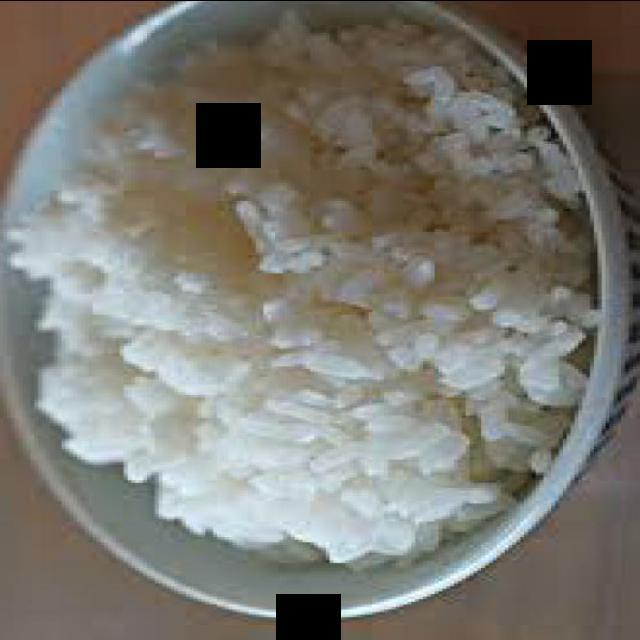rice: (3, 17, 597, 568)
